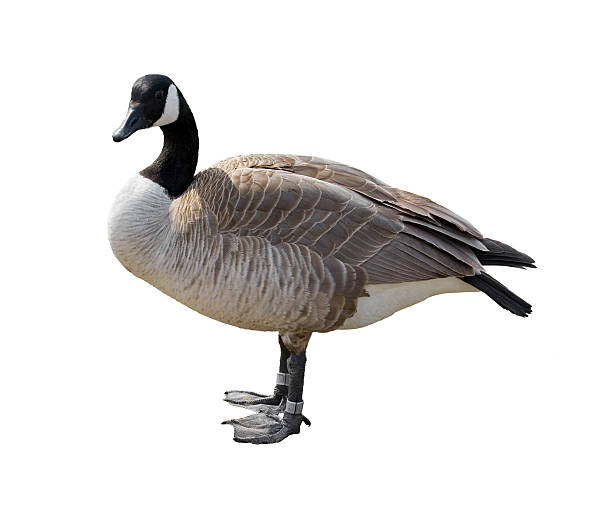goose: (99, 70, 540, 454)
